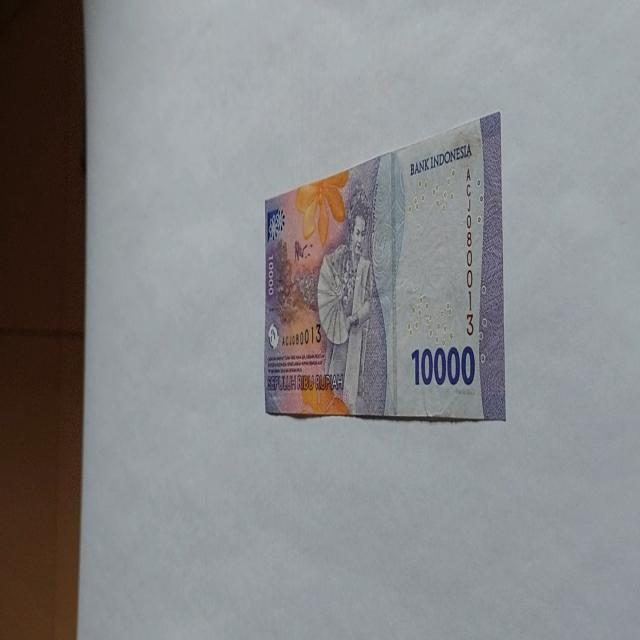sepuluh ribu rupiah: (262, 110, 506, 422), (316, 188, 388, 416)
